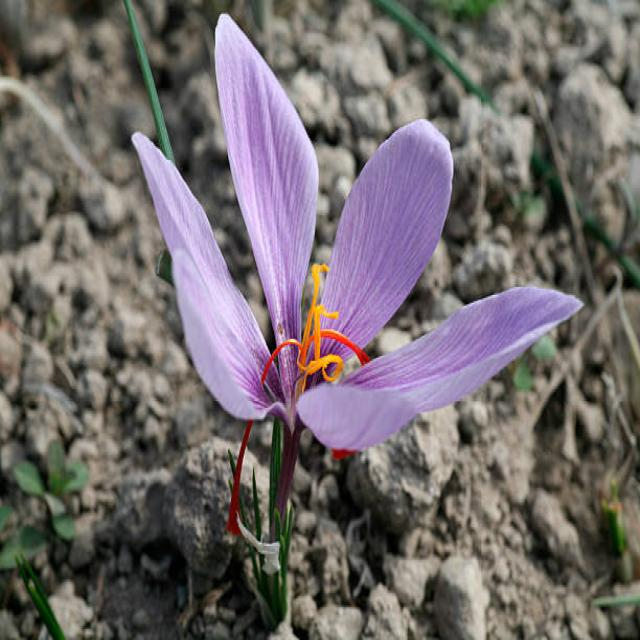saffron open: (132, 15, 580, 514)
